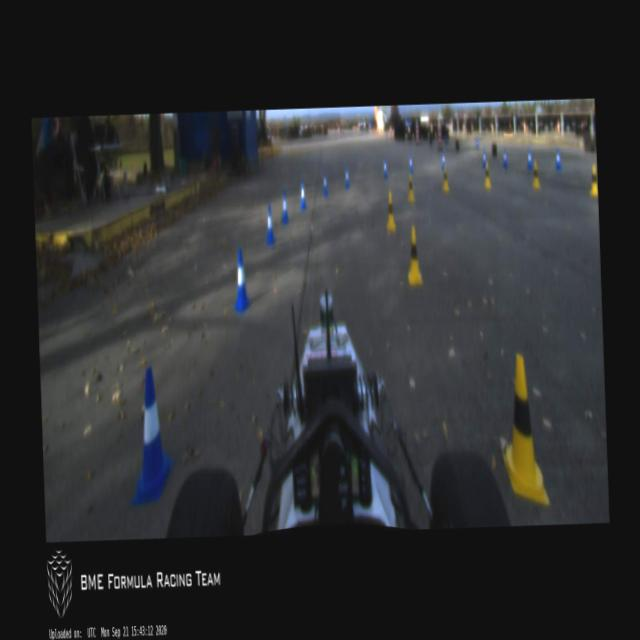blue_cone: (127, 365, 175, 505), (230, 246, 250, 310), (264, 204, 274, 244), (297, 176, 307, 207), (280, 190, 290, 221), (554, 146, 561, 171), (321, 170, 328, 195), (343, 162, 350, 187), (381, 156, 388, 178), (526, 146, 532, 170), (502, 145, 508, 168), (440, 150, 446, 170), (408, 152, 413, 174), (482, 149, 486, 168)
yellow_cone: (498, 352, 550, 509), (406, 227, 422, 284), (384, 188, 396, 232), (588, 163, 598, 196), (406, 172, 414, 202), (441, 163, 449, 191), (531, 163, 539, 188), (483, 162, 491, 186)
